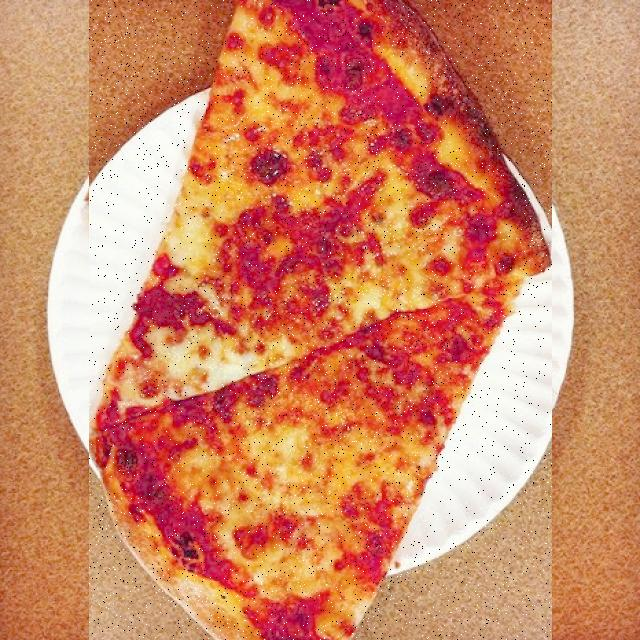Pizza: (90, 0, 552, 640)
